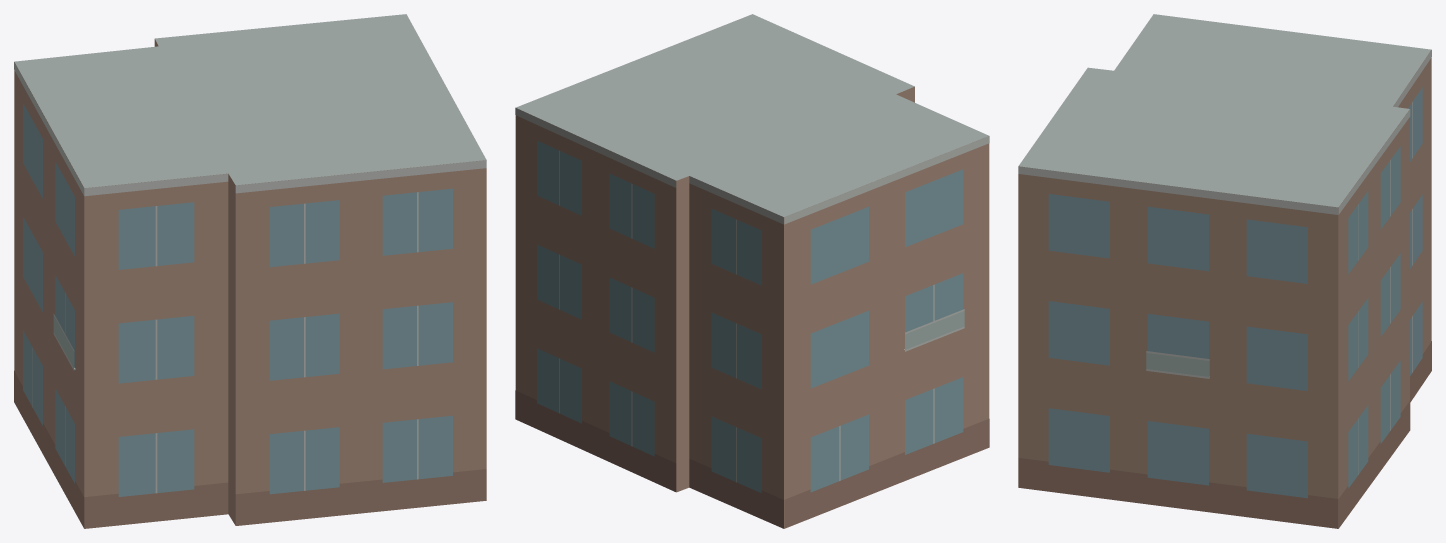
The model's file is survey-upis-32720796.glb.
3 views of the same model, side by side, from view 1: azimuth 30°, elevation 25°; view 2: azimuth 150°, elevation 25°; view 3: azimuth 270°, elevation 25° (orthographic). The views are drawn at different scales.
Parts seen in each view (by area): view 1: survey-upis-32720796.tmp; view 2: survey-upis-32720796.tmp; view 3: survey-upis-32720796.tmp.
Part boxes in pixels (x1,y1,x2,y2): survey-upis-32720796.tmp: (14,14,486,528); survey-upis-32720796.tmp: (515,14,989,528); survey-upis-32720796.tmp: (1018,14,1431,528).
Size of the model in its own units: 13.3 by 10.3 by 12.01.
